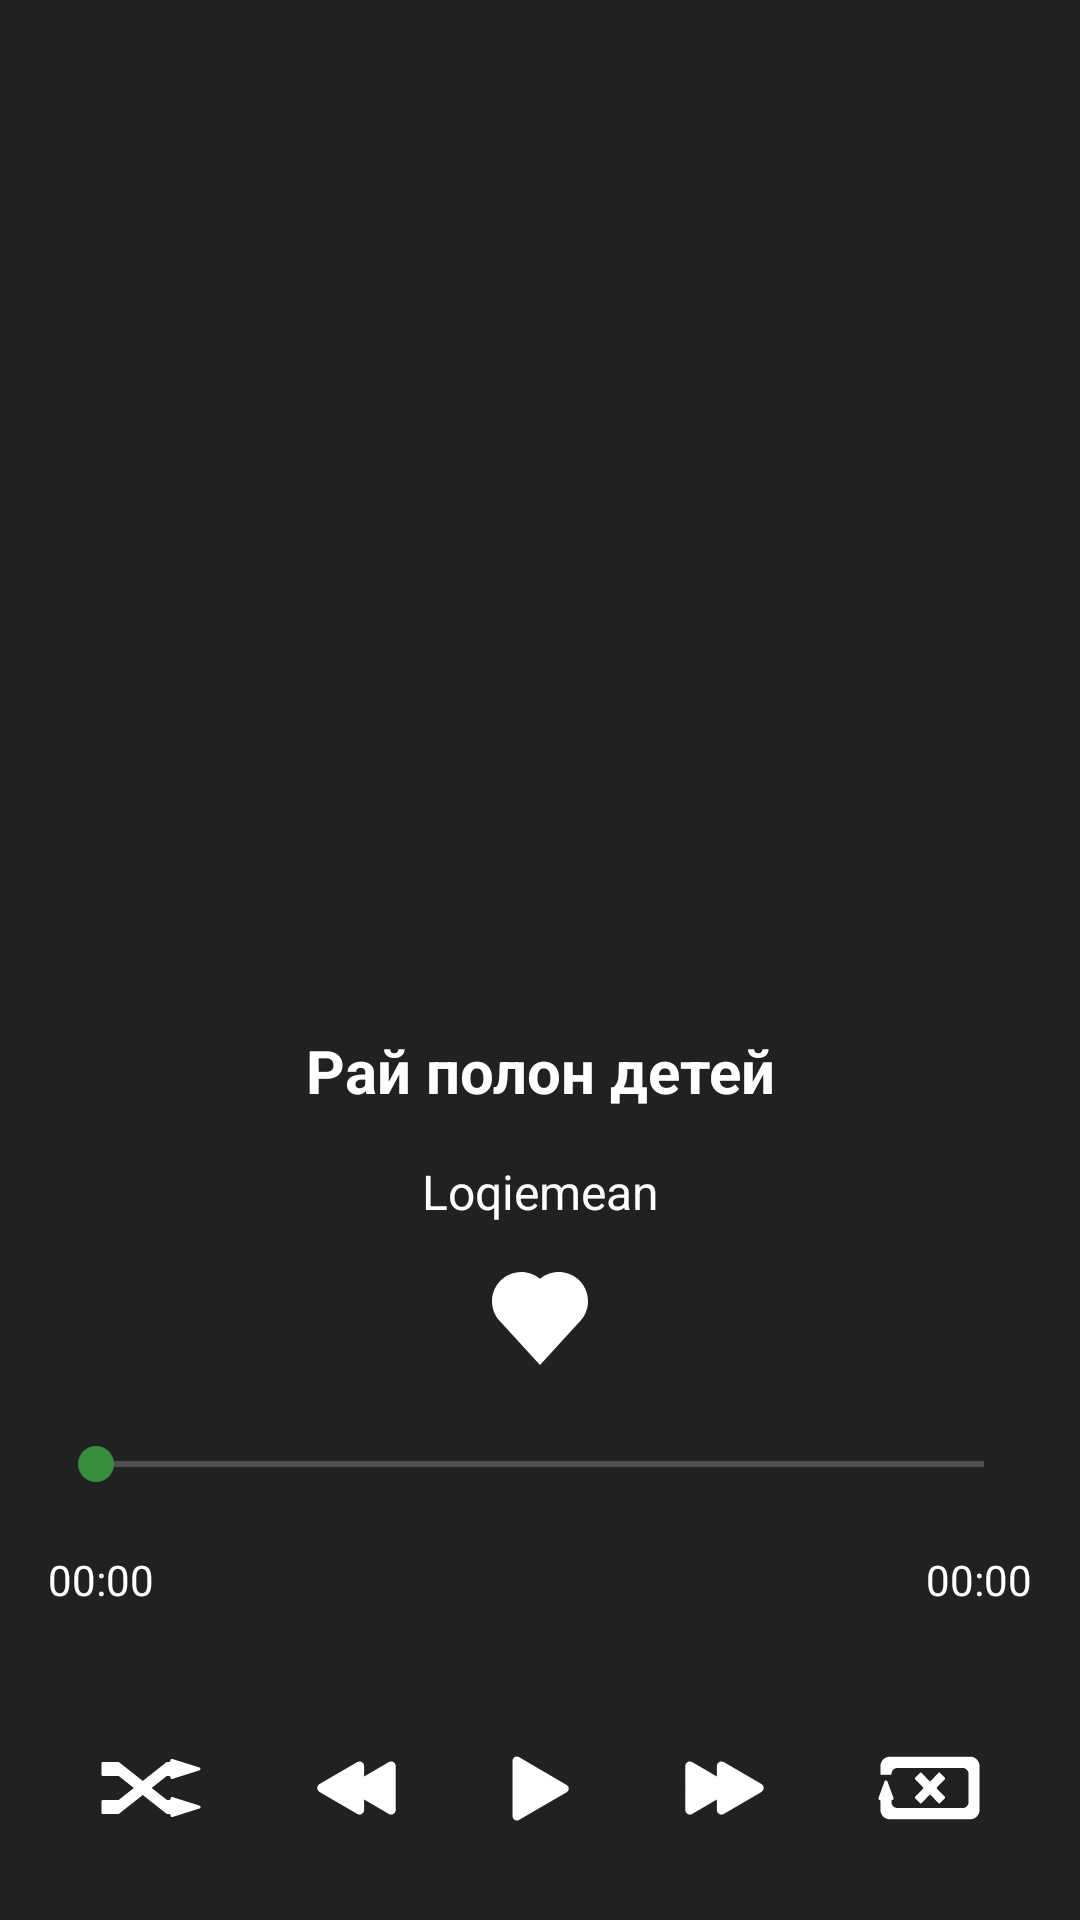

Icon bounding boxes for this 1080px x 1920px phone screenshot, format {"x1": x1, "y1": y1, "x2": x2, "y2": y2}:
heart: {"x1": 492, "y1": 1272, "x2": 588, "y2": 1365}
loop not: {"x1": 878, "y1": 1756, "x2": 980, "y2": 1820}
next: {"x1": 685, "y1": 1761, "x2": 764, "y2": 1815}
play: {"x1": 512, "y1": 1756, "x2": 569, "y2": 1821}
previous: {"x1": 317, "y1": 1761, "x2": 396, "y2": 1815}
shuffled: {"x1": 101, "y1": 1759, "x2": 201, "y2": 1817}
